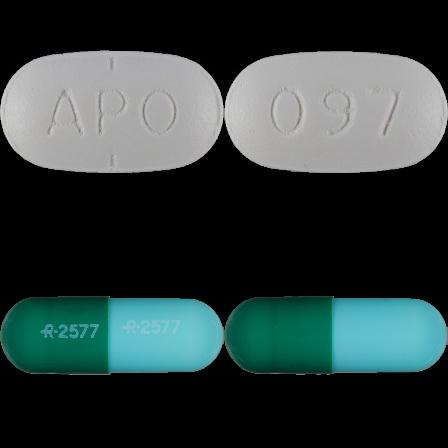54868-5080: (0, 0, 224, 224)
